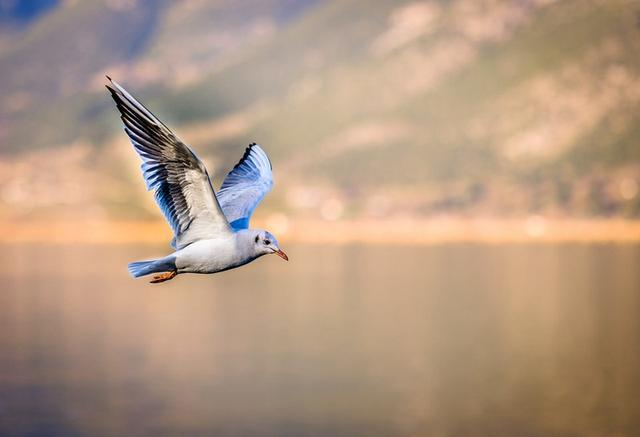bird: (94, 72, 294, 287)
